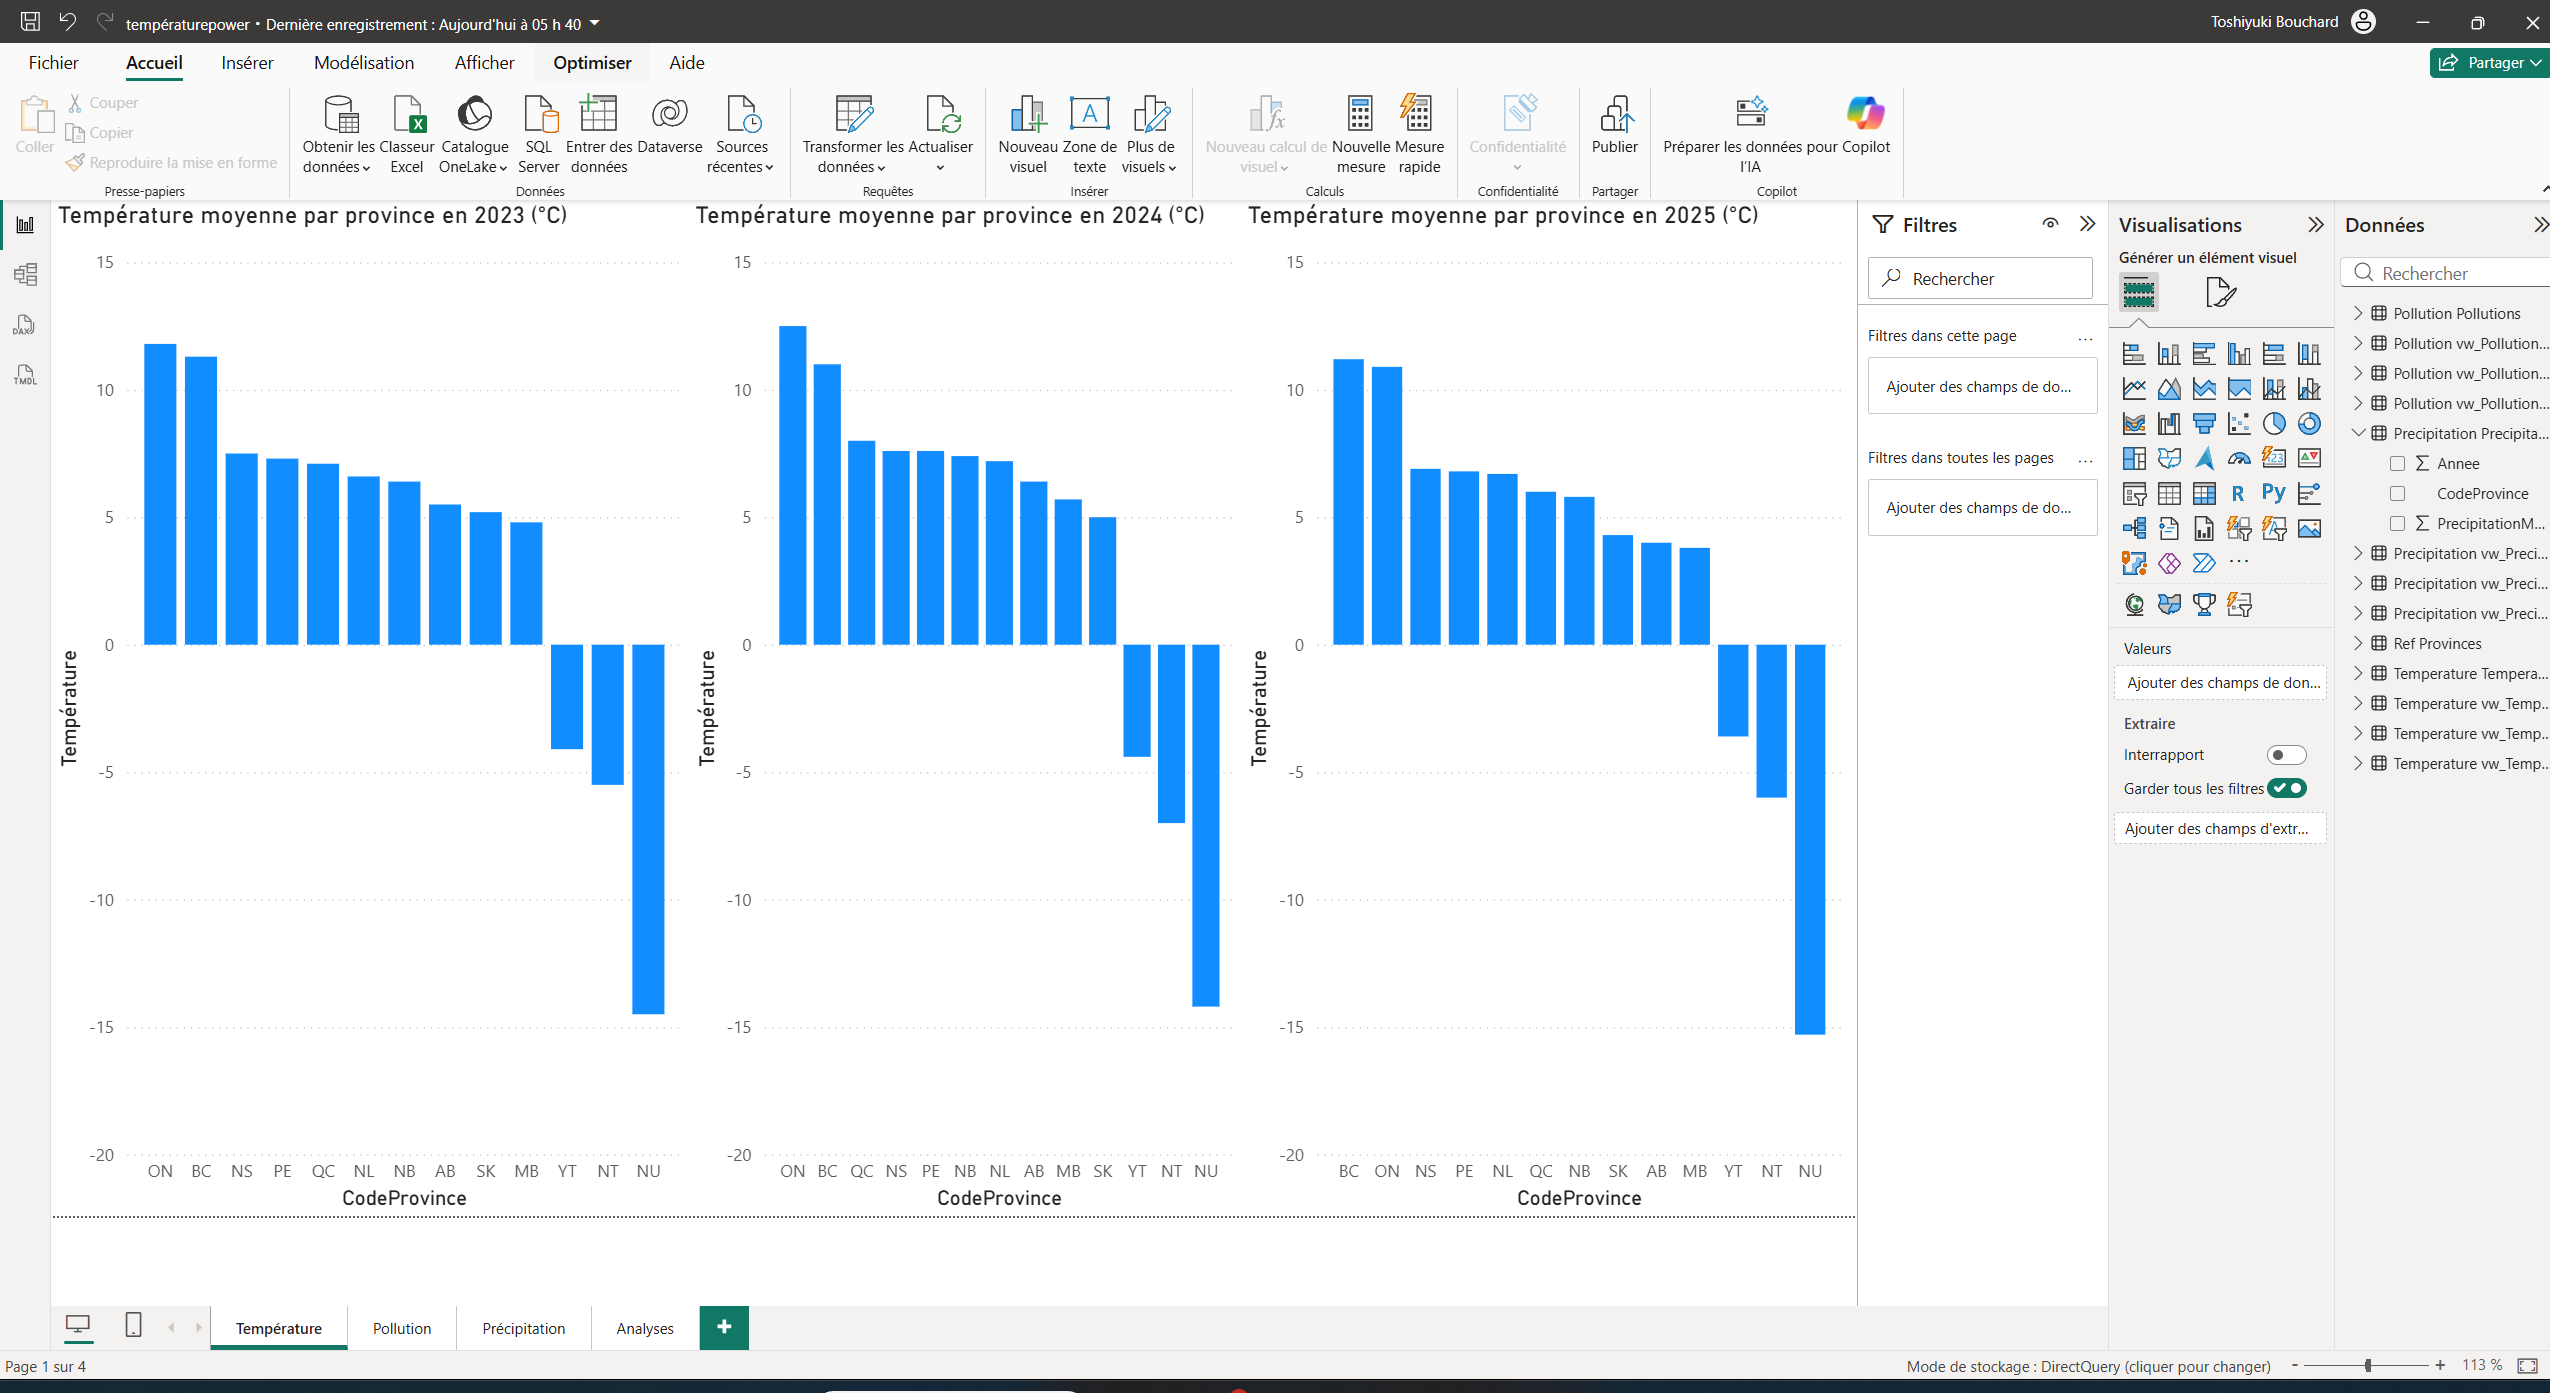

The page's visual inventory and layout, read from the dashboard file:
{"tool":"powerbi","page":{"name":"Température","canvas":[1280,720],"ordinal":0},"visuals":[{"type":"clusteredColumnChart","title":"Température moyenne par province en 2023 (°C)","fields":{"Category":["Temperature vw_Temperature_2023.CodeProvince"],"Y":["Avg(Temperature vw_Temperature_2023.TemperatureMoyenne)"]},"box":[0,0,451.8,720.3],"z":0},{"type":"clusteredColumnChart","title":"Température moyenne par province en 2024 (°C)","fields":{"Category":["Temperature vw_Temperature_2024.CodeProvince"],"Y":["Avg(Temperature vw_Temperature_2024.TemperatureMoyenne)"]},"box":[451.8,0,391.6,720.3],"z":1000},{"type":"clusteredColumnChart","title":"Température moyenne par province en 2025 (°C)","fields":{"Category":["Temperature vw_Temperature_2025.CodeProvince"],"Y":["Avg(Temperature vw_Temperature_2025.TemperatureMoyenne)"]},"box":[843.4,0,430.6,720.3],"z":2000}]}

Visuals, with their boxes on the page's 1280x720 design canvas (x1, y1, x2, y2). These are canvas units, not pixel positions in the 2550x1393 screenshot, which may show the page scaled, cropped or inside an application window:
"Température moyenne par province en 2023 (°C)" clusteredColumnChart: <box>0,0,452,720</box>
"Température moyenne par province en 2024 (°C)" clusteredColumnChart: <box>452,0,843,720</box>
"Température moyenne par province en 2025 (°C)" clusteredColumnChart: <box>843,0,1274,720</box>
